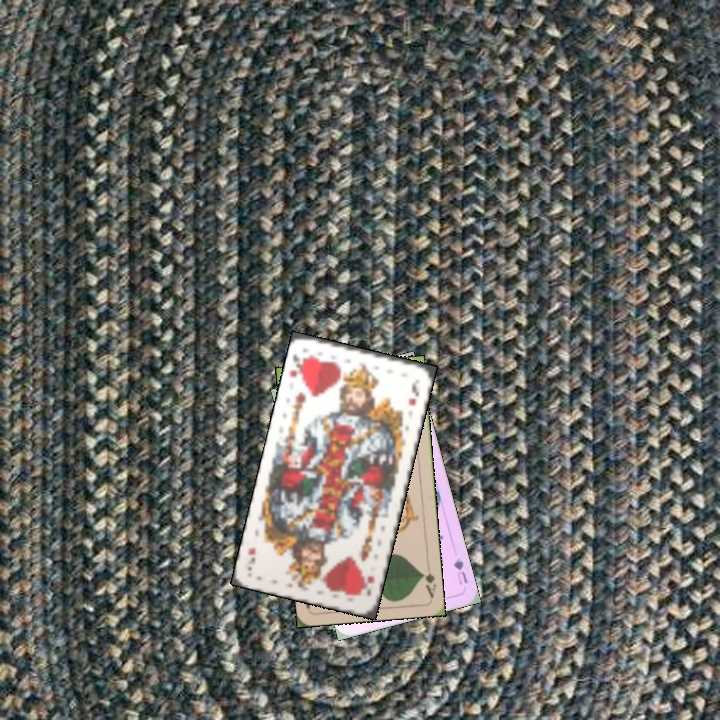GA: (417, 568, 438, 600)
GU: (449, 554, 470, 587)
HK: (286, 350, 310, 385), (356, 571, 378, 598)
